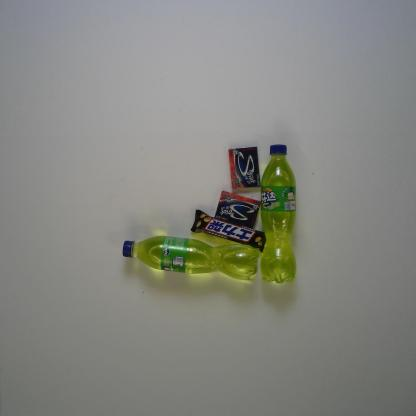Chocolate: (190, 209, 266, 253)
Drink: (121, 235, 260, 281), (259, 143, 298, 285)
Gum: (214, 190, 261, 230), (228, 146, 261, 190)
